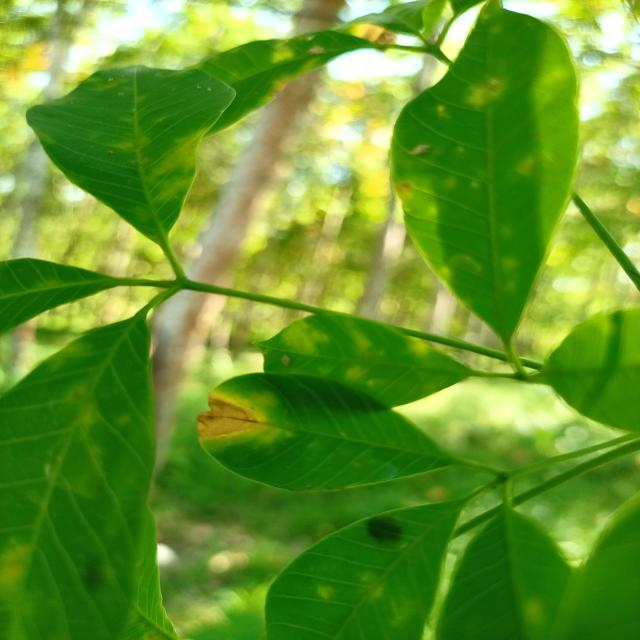Leaf-Blight: (197, 395, 258, 438)
